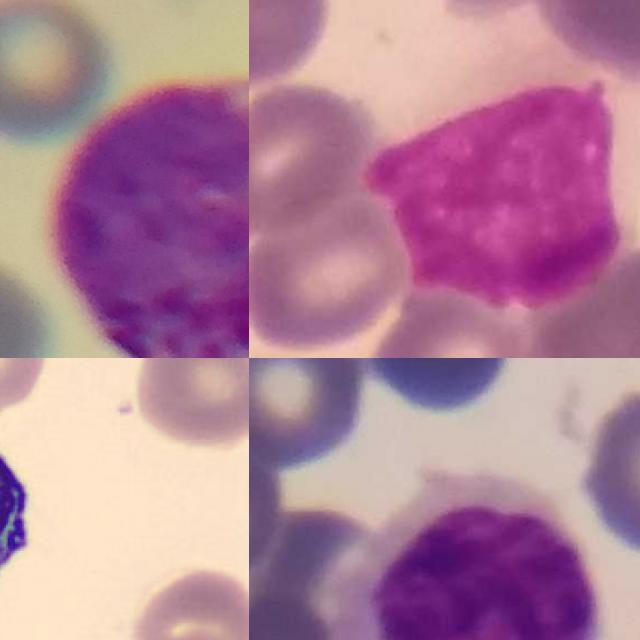Basophil: (49, 75, 249, 358)
Lymphocyte: (323, 471, 596, 640), (0, 406, 48, 610)
Monocyte: (368, 19, 640, 307)
RBC: (130, 358, 249, 452), (128, 561, 249, 640)
